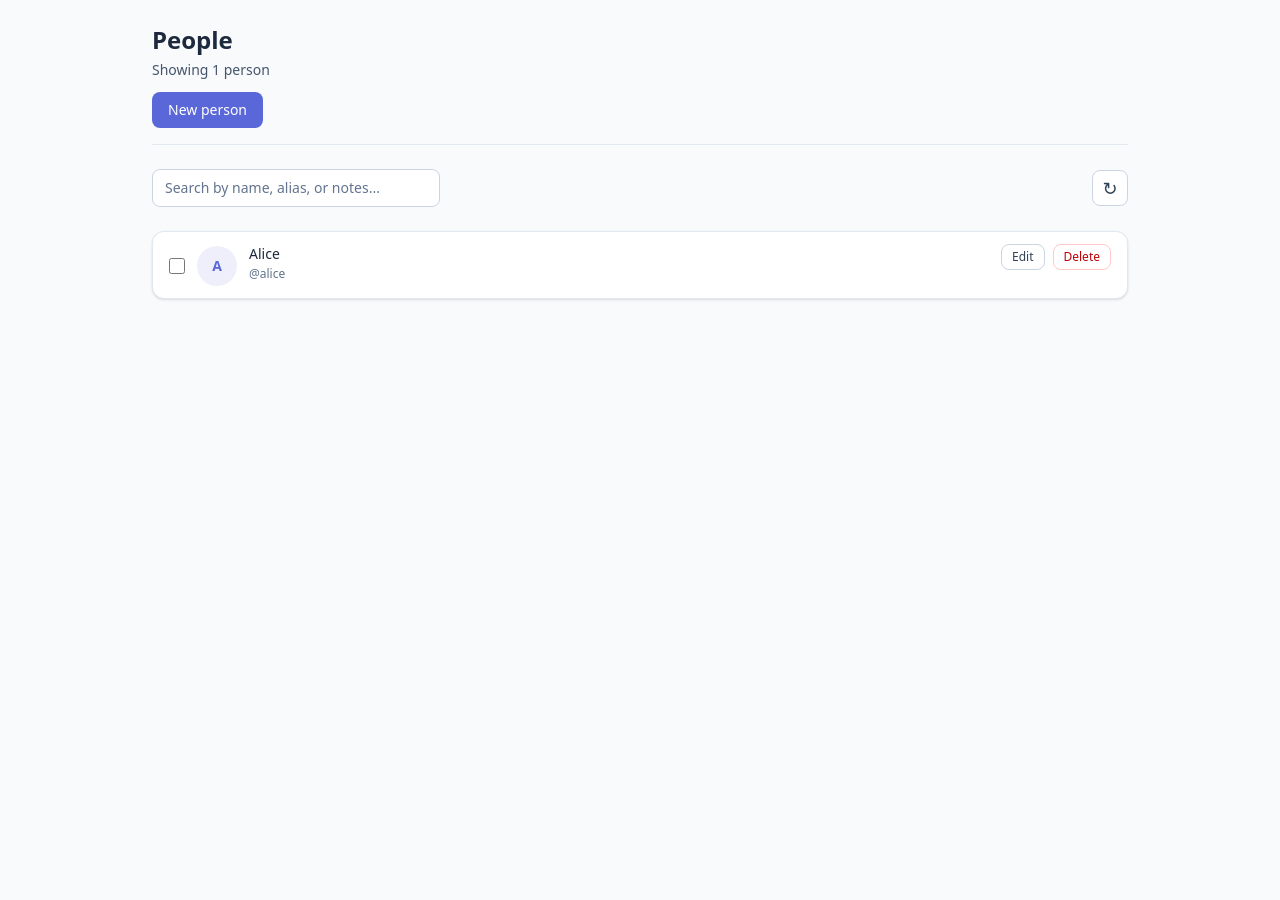
Test: PeopleManagement edit flow › opens the edit modal prefilled and submits an update
expect the button "Alice" is shown: met, box [249, 244, 280, 264]
Click the button "Edit".
click(1023, 257)  # box [1001, 244, 1044, 270]
(page scrolled)
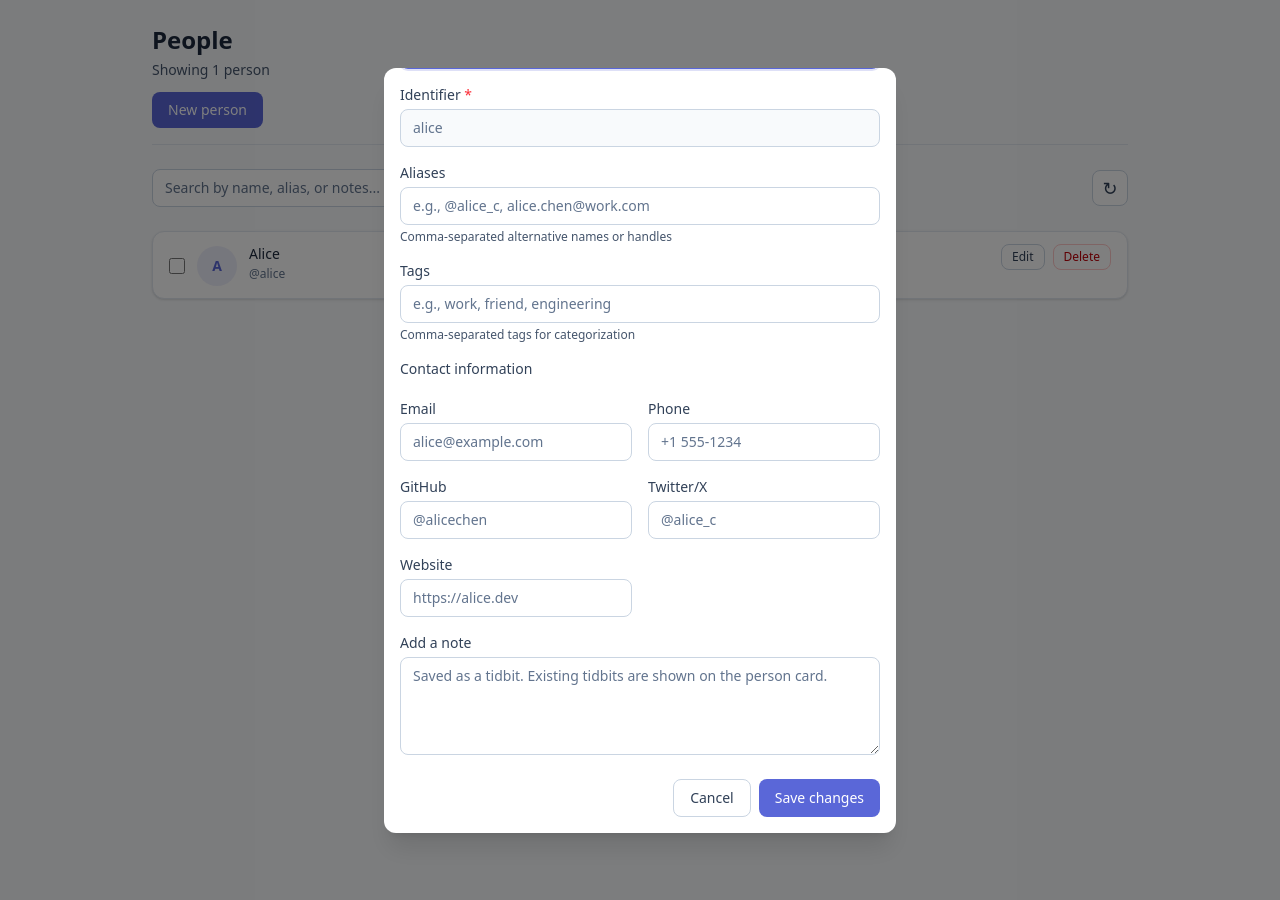
Click the button "Save changes".
click(819, 798)  # box [759, 778, 880, 816]
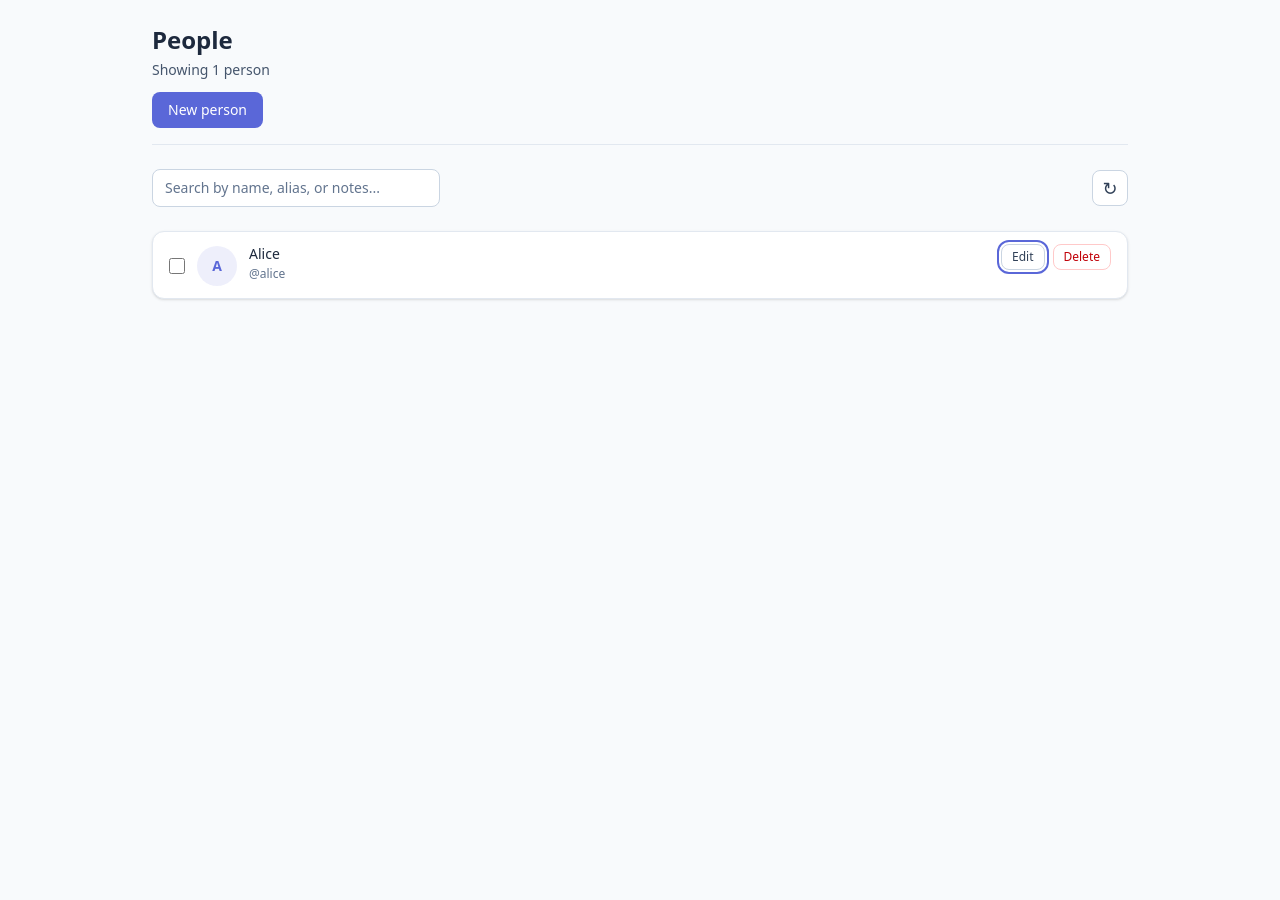
expect the dialog is gone: met
